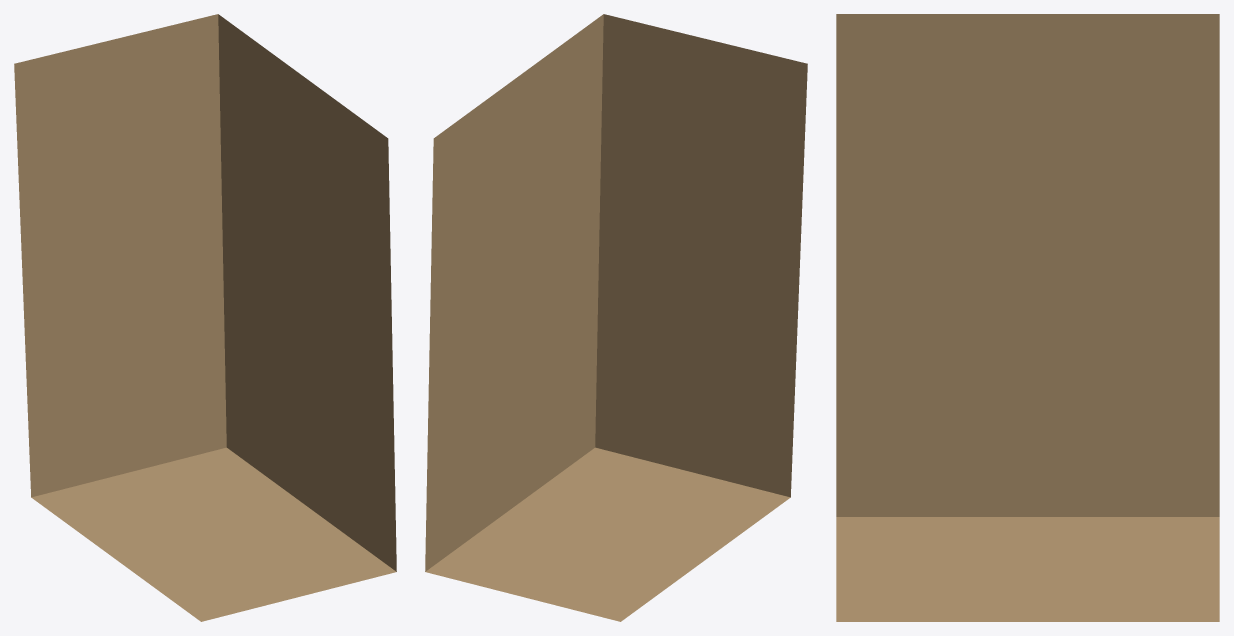
3 renders of one model, left to right at view 1: azimuth 30°, elevation 25°; view 2: azimuth 150°, elevation 25°; view 3: azimuth 270°, elevation 25°, orthographic. The views are drawn at different scales.
Parts seen in each view (by area): view 1: 0_0_3_2_0_1_2_0_2; view 2: 0_0_3_2_0_1_2_0_2; view 3: 0_0_3_2_0_1_2_0_2.
Part boxes in pixels (x1,y1,x2,y2): 0_0_3_2_0_1_2_0_2: (14, 14, 396, 621); 0_0_3_2_0_1_2_0_2: (425, 14, 807, 621); 0_0_3_2_0_1_2_0_2: (836, 14, 1219, 621).
Bounding box in the file's own units: 19.49 × 38.35 × 27.
